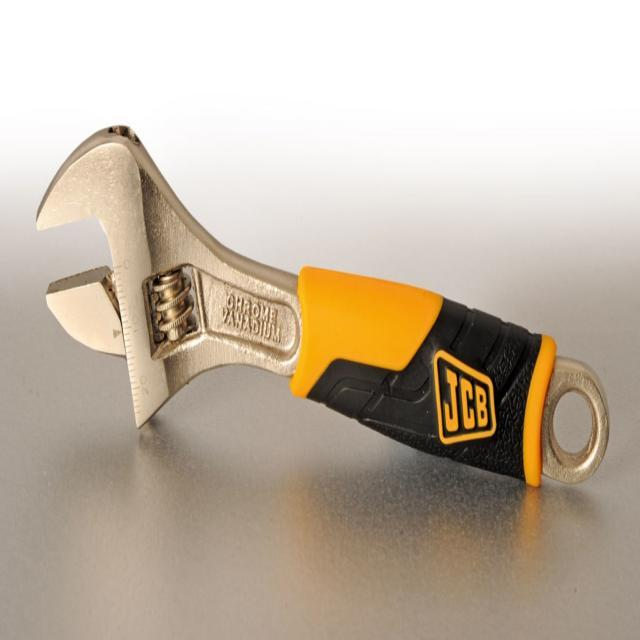wrench: (32, 116, 610, 487)
